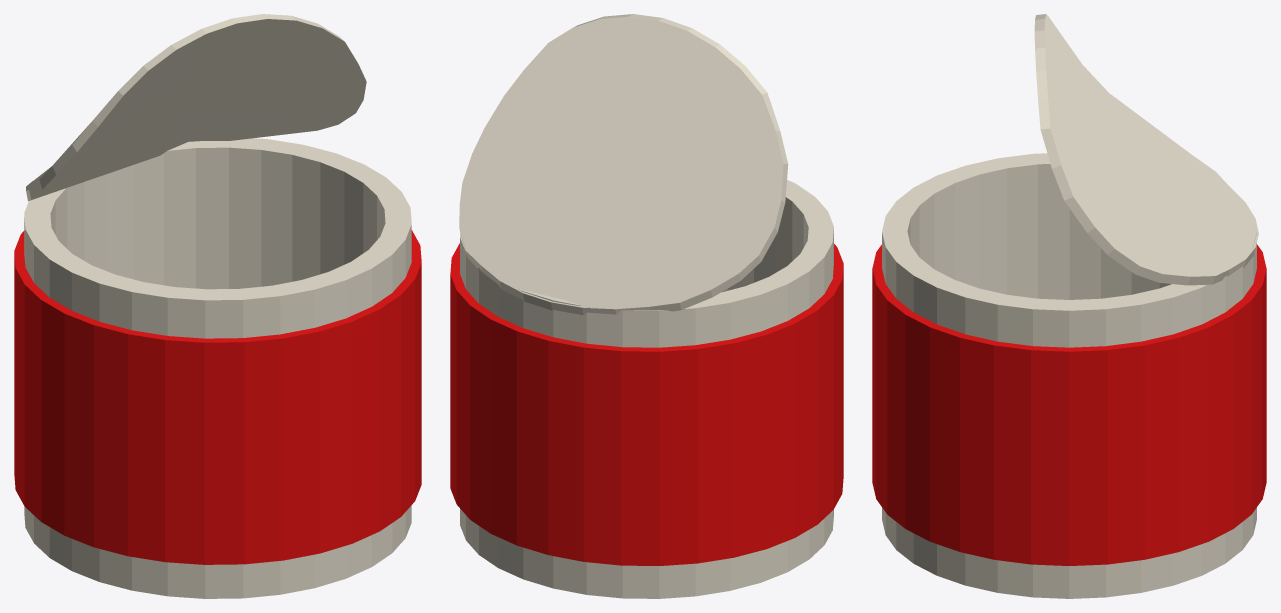
Rendered from item-food.glb.
The picture shows the model from 3 angles, left to right: view 1: azimuth 30°, elevation 25°; view 2: azimuth 150°, elevation 25°; view 3: azimuth 270°, elevation 25°; orthographic projection. The views are drawn at different scales.
Parts seen in each view (by area): view 1: 円柱.009, 円柱.005, 円柱.006; view 2: 円柱.009, 円柱.006, 円柱.005; view 3: 円柱.009, 円柱.005, 円柱.006.
Part boxes in pixels (x1,y1,x2,y2): 円柱.009: (14,230,421,564); 円柱.005: (24,138,411,598); 円柱.006: (26,14,366,201); 円柱.009: (450,243,843,565); 円柱.006: (459,14,788,314); 円柱.005: (460,180,833,598); 円柱.009: (872,244,1266,565); 円柱.005: (882,153,1256,598); 円柱.006: (1034,14,1258,285).
Size of the model in its own units: 0.2618 by 0.3592 by 0.2618.
